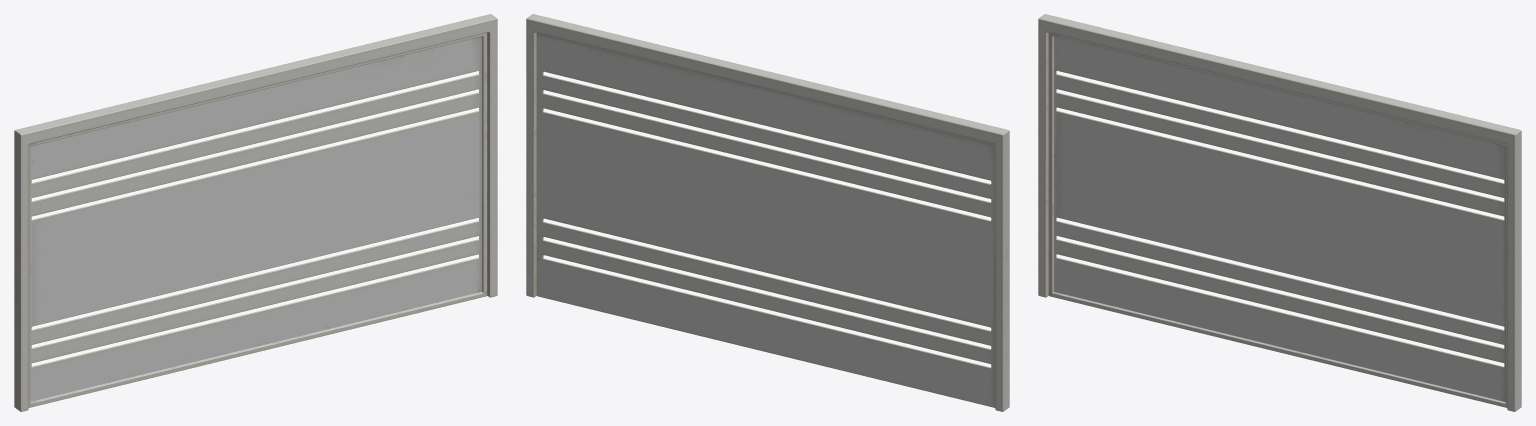
File: port_com_txt.fbx
The picture shows the model from 3 angles, left to right: view 1: azimuth 30°, elevation 25°; view 2: azimuth 150°, elevation 25°; view 3: azimuth 330°, elevation 25°; orthographic projection.
Visible parts, largest first — view 1: folha; view 2: folha; view 3: folha.
Boxes of the visible parts, <box> form: folha: <box>14,14,497,411</box>; folha: <box>526,14,1009,411</box>; folha: <box>1038,14,1521,411</box>.
Bounding box in the file's own units: 414 × 230 × 10.
